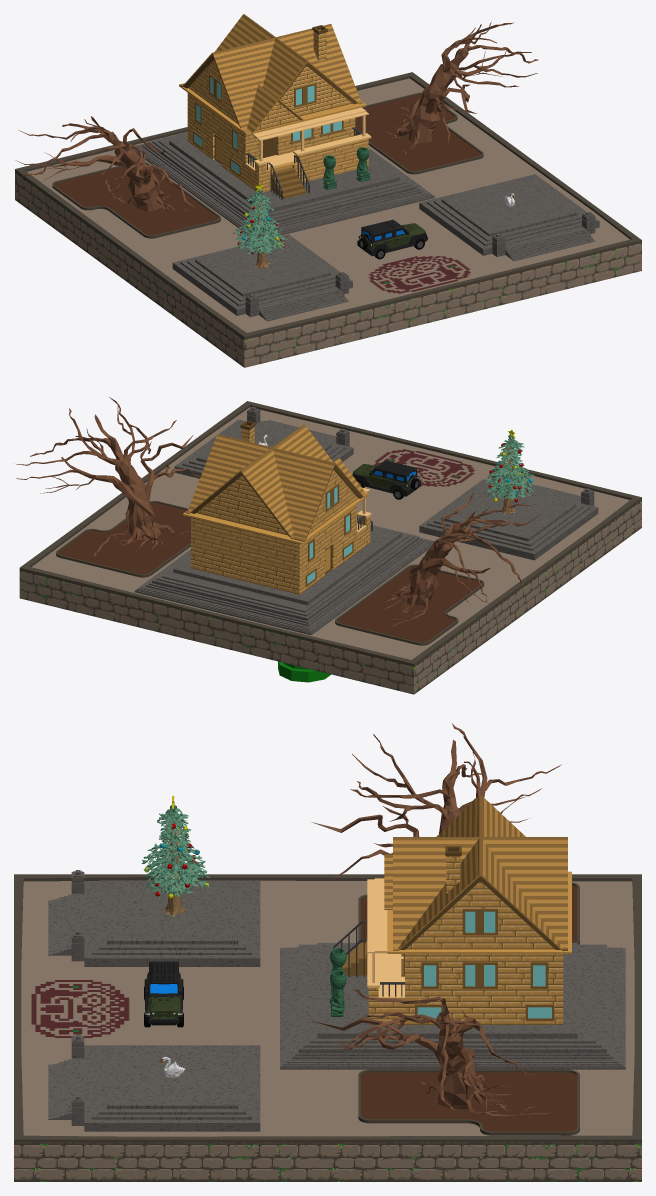
3 renders of one model, top to bottom at view 1: azimuth 30°, elevation 25°; view 2: azimuth 150°, elevation 25°; view 3: azimuth 270°, elevation 25°, orthographic. The views are drawn at different scales.
Parts seen in each view (by area): view 1: Cube.011, Cube.508, OBJRANDOM_CHRISTMAS_TREE, VEHICLES_JEEP; view 2: Cube.011, Cube.508, OBJRANDOM_CHRISTMAS_TREE, VEHICLES_JEEP, UNDERGROUND_PIPES; view 3: Cube.011, Cube.508, OBJRANDOM_CHRISTMAS_TREE, VEHICLES_JEEP.
Boxes of the visible parts, bbox=[...] form: Cube.011: bbox=[15, 22, 641, 367]; Cube.508: bbox=[179, 14, 371, 199]; OBJRANDOM_CHRISTMAS_TREE: bbox=[233, 184, 286, 268]; VEHICLES_JEEP: bbox=[357, 219, 427, 259]; Cube.011: bbox=[14, 397, 641, 694]; Cube.508: bbox=[183, 421, 372, 594]; OBJRANDOM_CHRISTMAS_TREE: bbox=[484, 429, 534, 514]; VEHICLES_JEEP: bbox=[352, 460, 420, 499]; UNDERGROUND_PIPES: bbox=[278, 661, 331, 682]; Cube.011: bbox=[14, 723, 641, 1181]; Cube.508: bbox=[333, 795, 571, 1024]; OBJRANDOM_CHRISTMAS_TREE: bbox=[141, 796, 210, 916]; VEHICLES_JEEP: bbox=[144, 961, 183, 1027].
Bounding box in the file's own units: 5099 × 2243 × 4000.
34 materials, 6 textured.
